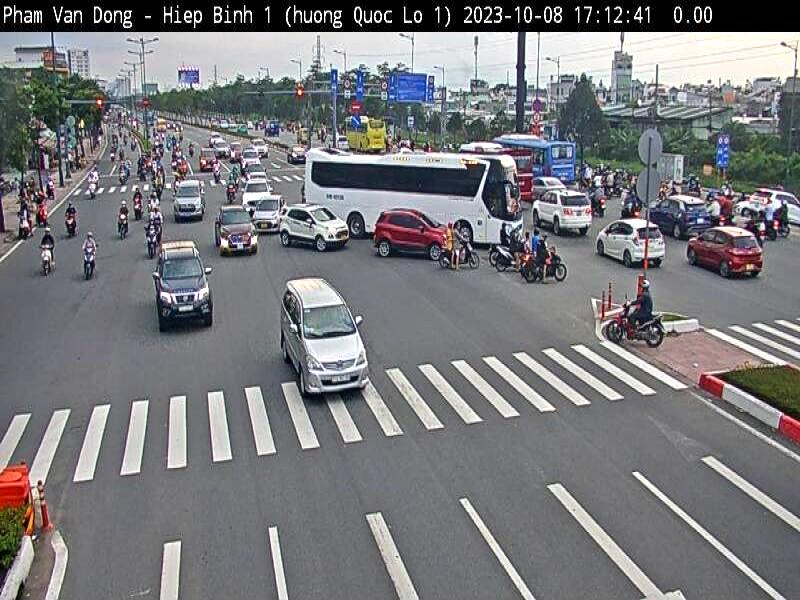bus: (303, 145, 528, 251), (444, 138, 532, 203), (491, 130, 580, 184), (345, 114, 389, 154)
car: (275, 276, 373, 402), (150, 240, 221, 335), (685, 224, 766, 284), (371, 203, 456, 257), (276, 205, 352, 256), (592, 216, 664, 269), (529, 189, 597, 237), (216, 204, 263, 258), (173, 175, 206, 223), (252, 190, 284, 234), (242, 178, 272, 215), (511, 222, 525, 263), (494, 222, 512, 248), (145, 216, 160, 237)
motorcycle: (603, 296, 669, 350), (520, 246, 572, 287), (440, 234, 482, 271), (487, 243, 517, 274), (81, 244, 99, 282), (39, 244, 58, 277)
